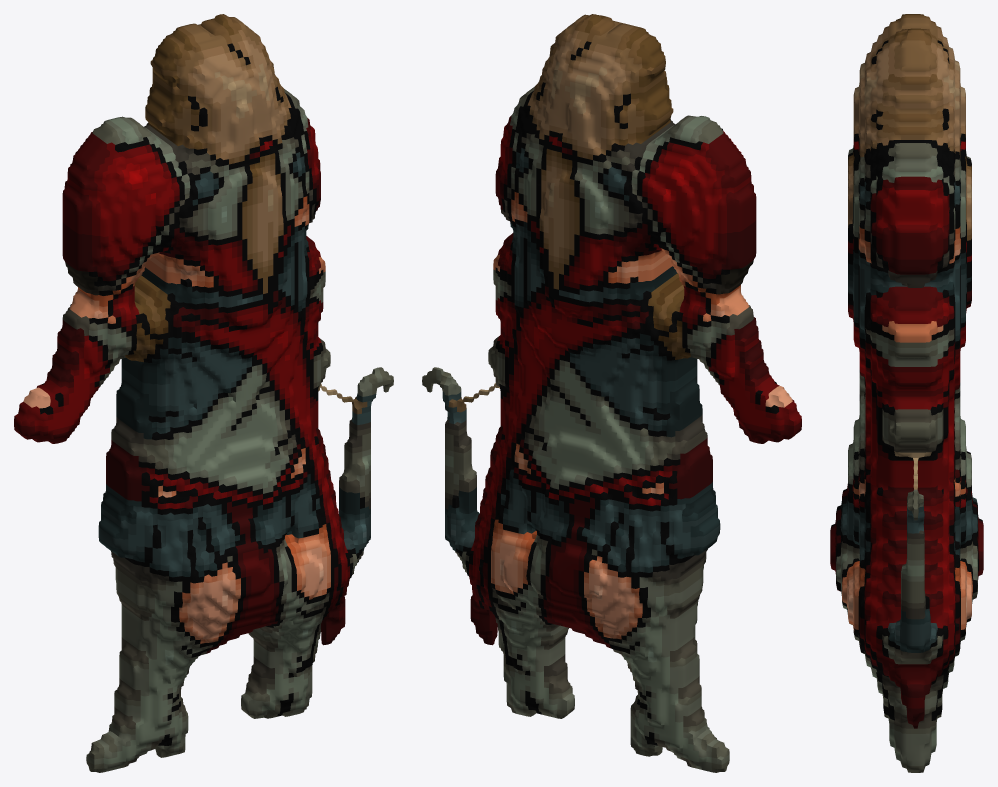
File: Fight_106_1_03.obj
3 views of the same model, side by side, from view 1: azimuth 30°, elevation 25°; view 2: azimuth 150°, elevation 25°; view 3: azimuth 270°, elevation 25° (orthographic).
Size of the model in its own units: 7.28 by 13.4 by 2.6.
1 material, 1 textured.
